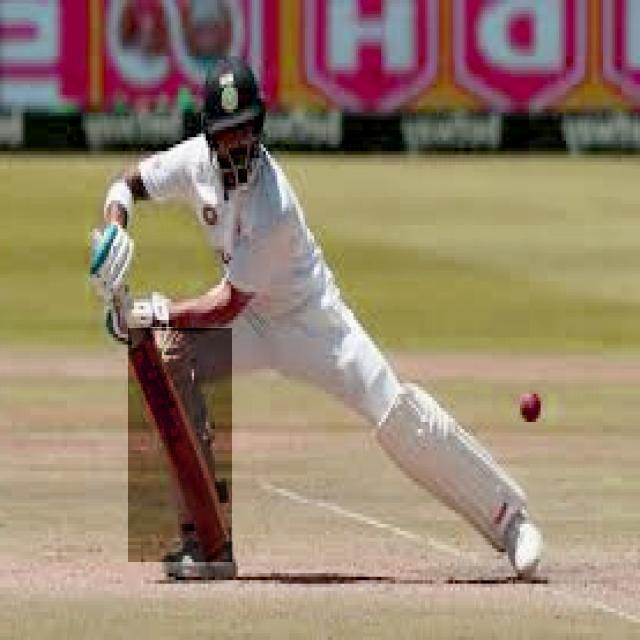bat: (131, 330, 236, 557)
toe: (204, 534, 234, 559)
